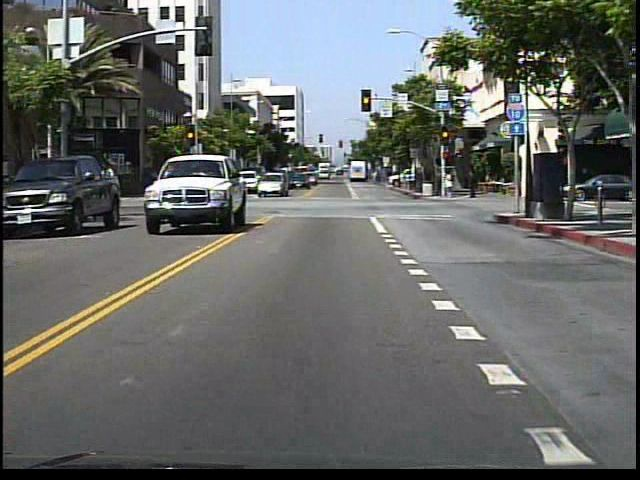person: (465, 169, 479, 202), (179, 170, 192, 198), (444, 169, 455, 198)
